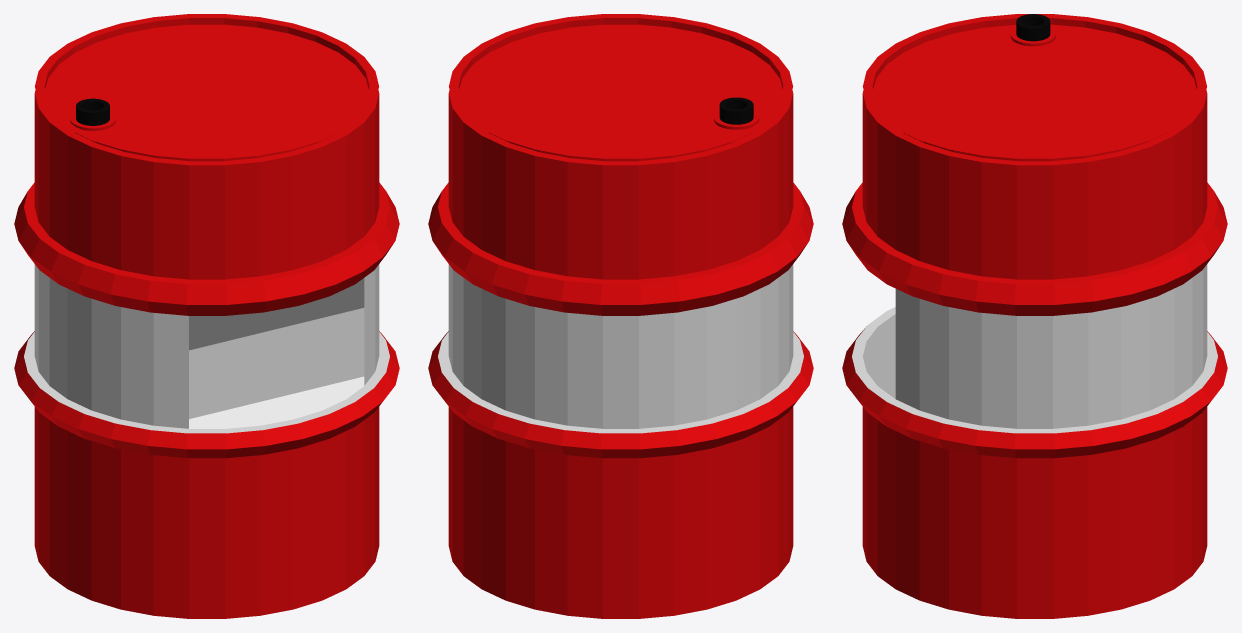
File: Barrel.fbx
3 views of the same model, side by side, from view 1: azimuth 30°, elevation 25°; view 2: azimuth 150°, elevation 25°; view 3: azimuth 270°, elevation 25° (orthographic).
Visible parts, largest first — view 1: Cylinder; view 2: Cylinder; view 3: Cylinder.
Boxes of the visible parts, x1,y1,x2,y2 form: Cylinder: (14,14,399,618); Cylinder: (428,14,813,618); Cylinder: (842,14,1227,618).
Size of the model in its own units: 81.5 by 110 by 81.95.
